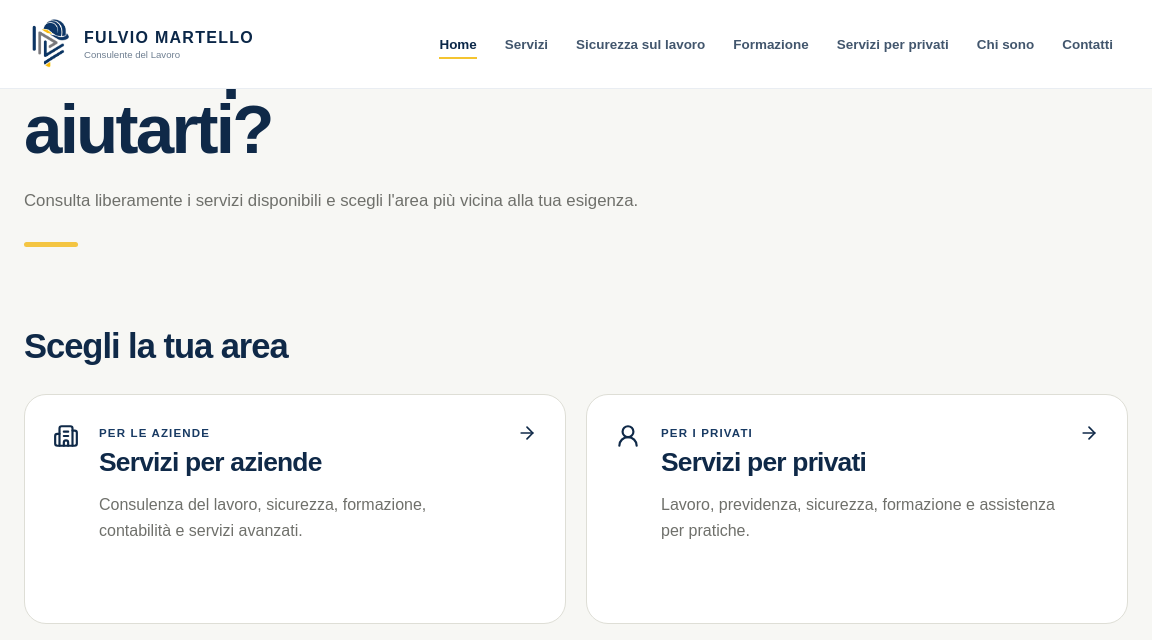
Scenario: ServicesPage › permette di entrare nel catalogo delle aziende
(page scrolled)
Click the button "Servizi per aziende": x=295, y=509 x1=24 y1=394 x2=566 y2=624
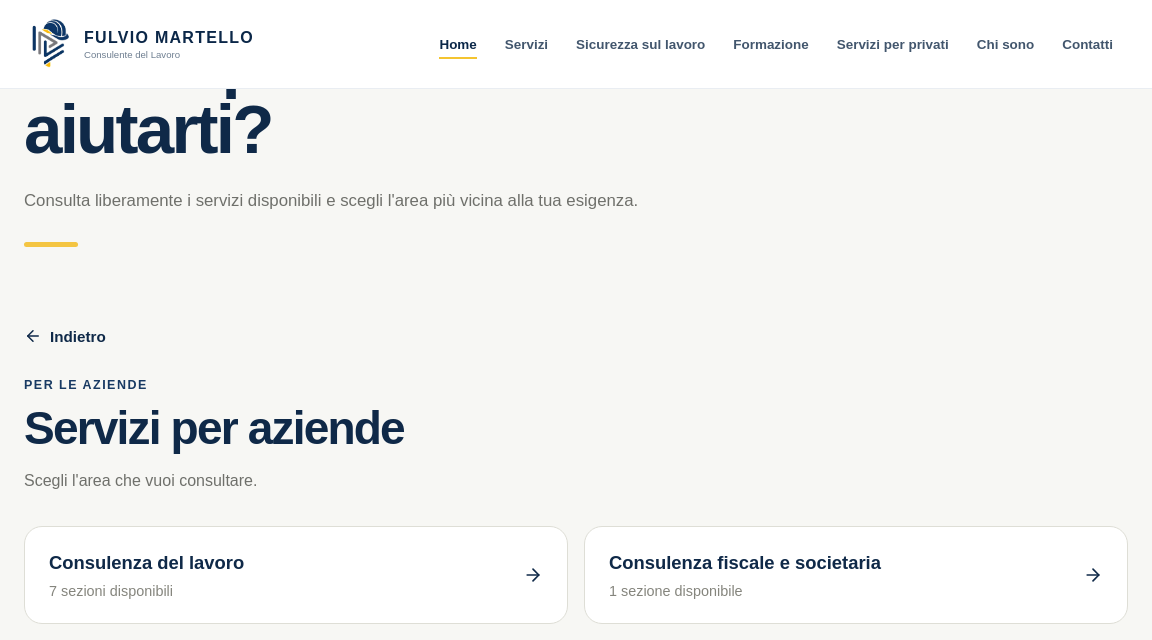
Now the text "Scegli l'area che vuoi consultare." is shown, box x1=24 y1=472 x2=257 y2=489
